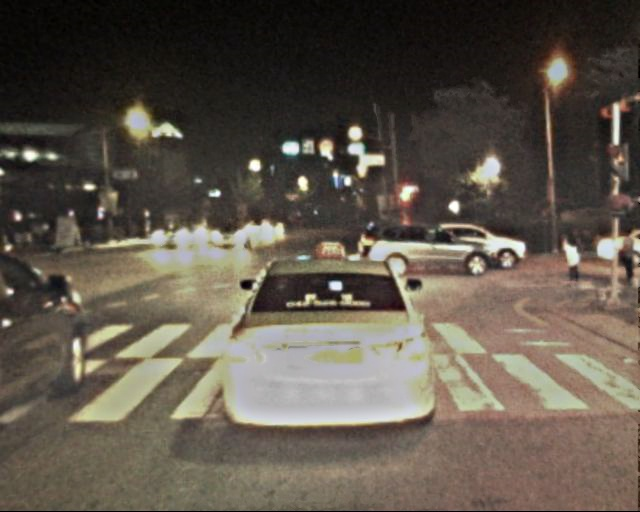person: (562, 228, 588, 288), (618, 228, 640, 286)
